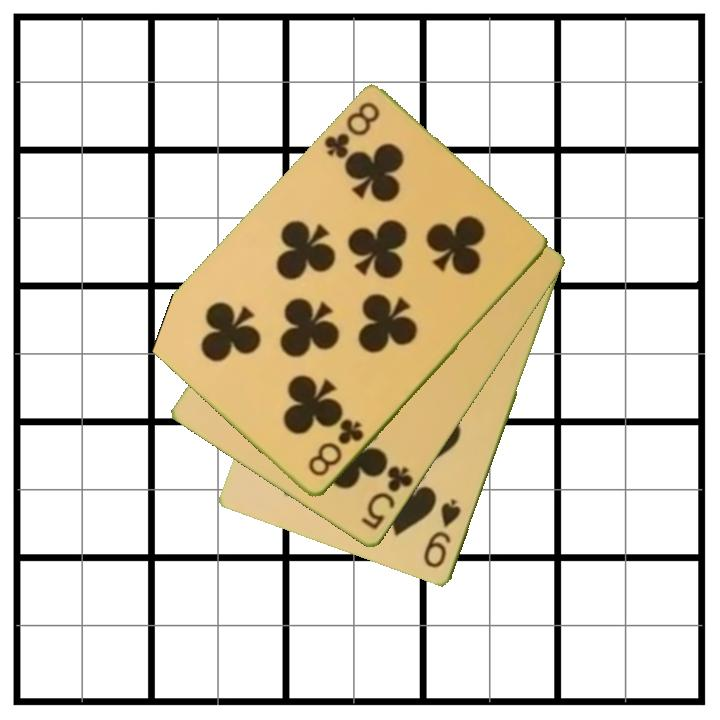5c: (358, 462, 417, 534)
8c: (304, 415, 367, 480), (320, 99, 383, 162)
9s: (420, 496, 465, 572)
